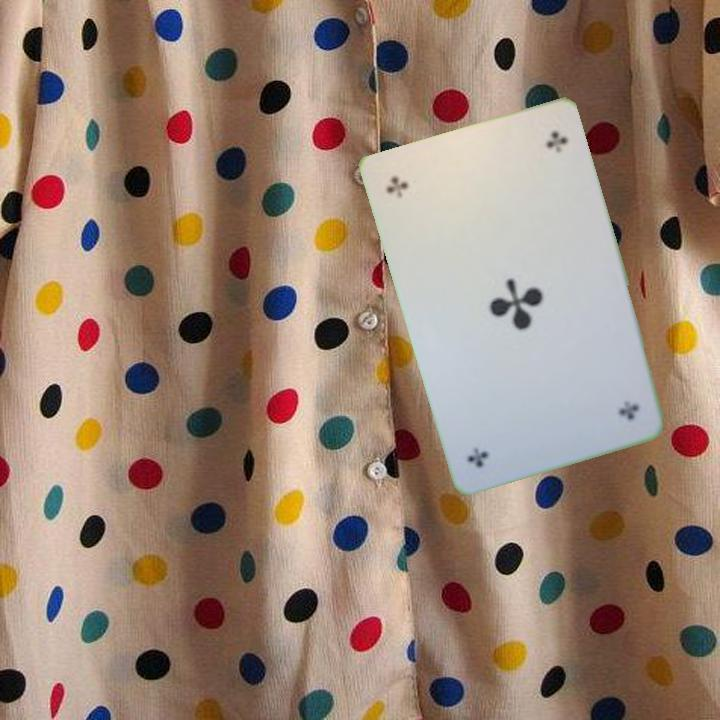c_a.png: (534, 341, 653, 451), (377, 142, 496, 252)
